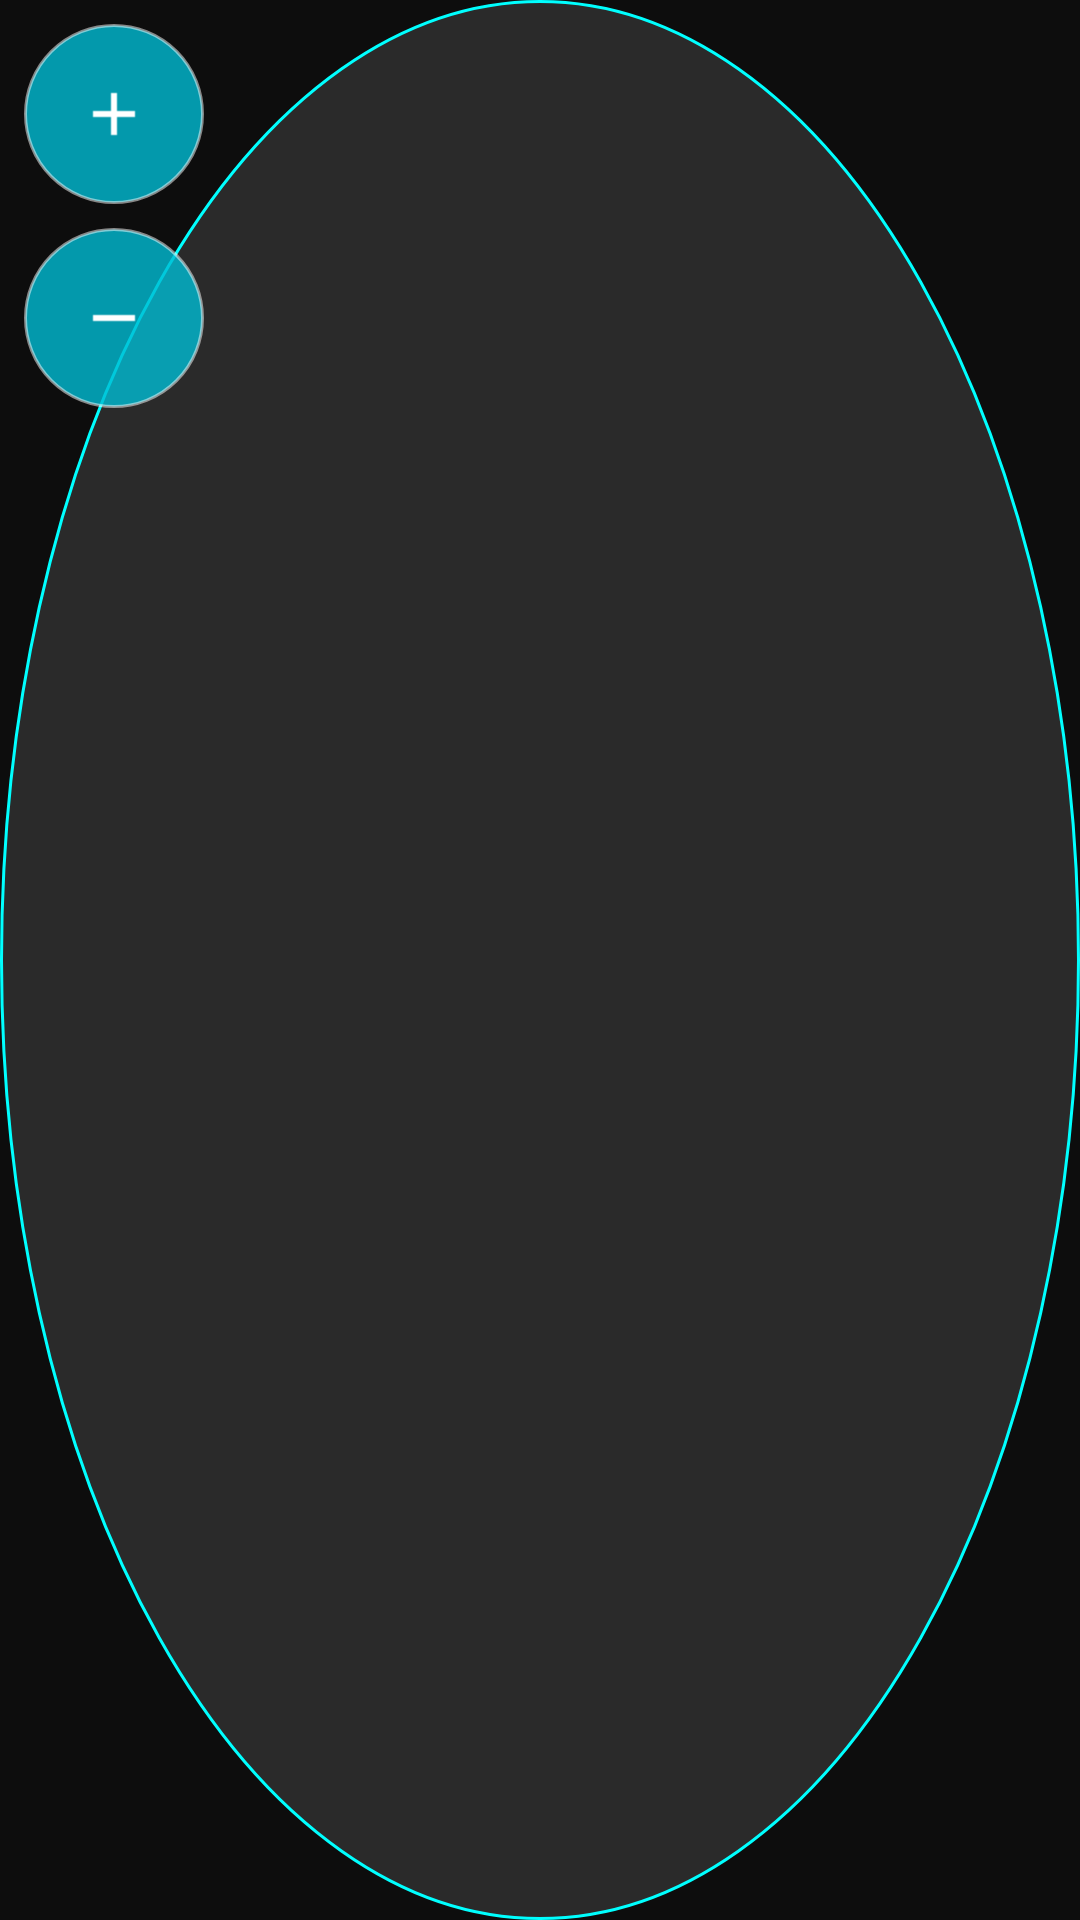

Where to tap for icons on this 1080x1920 app screen, as (x=x, y=y):
Volume Down: (x=114, y=318)
Volume Up: (x=114, y=114)
